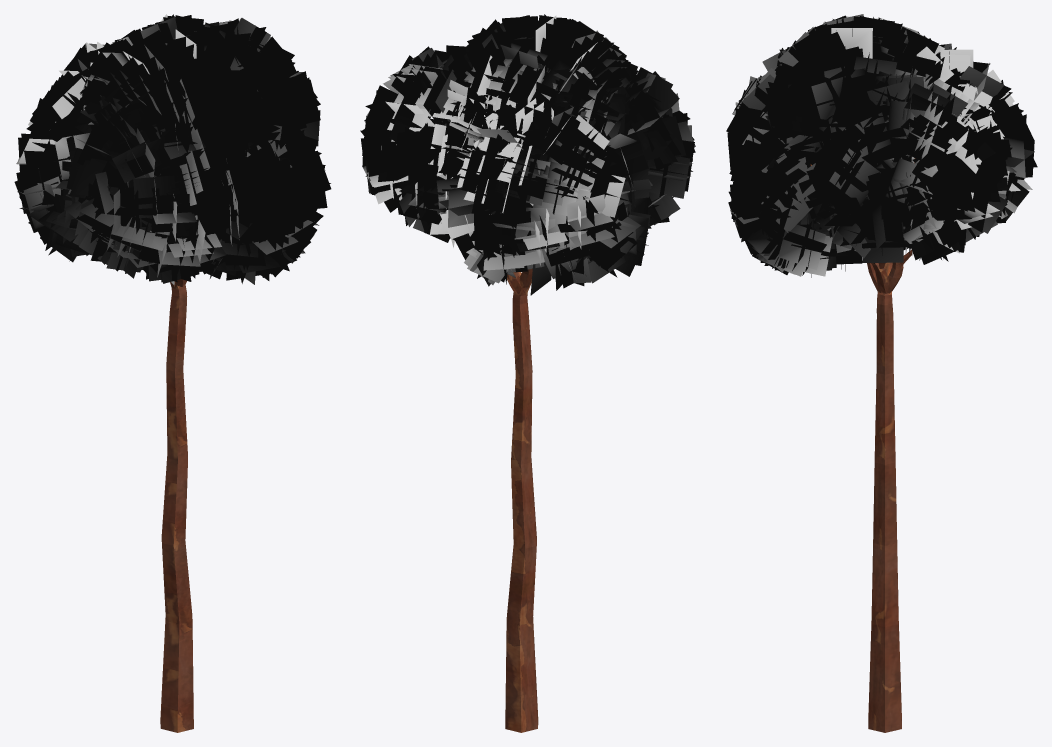
Rendered from treeTop.fbx.
3 views of the same model, side by side, from view 1: azimuth 30°, elevation 25°; view 2: azimuth 150°, elevation 25°; view 3: azimuth 270°, elevation 25° (orthographic).
Parts seen in each view (by area): view 1: treeTop; view 2: treeTop; view 3: treeTop.
Part boxes in pixels (x1,y1,x2,y2): treeTop: (14, 14, 331, 732); treeTop: (360, 14, 695, 732); treeTop: (726, 14, 1037, 732).
Size of the model in its own units: 640 by 1516 by 621.
